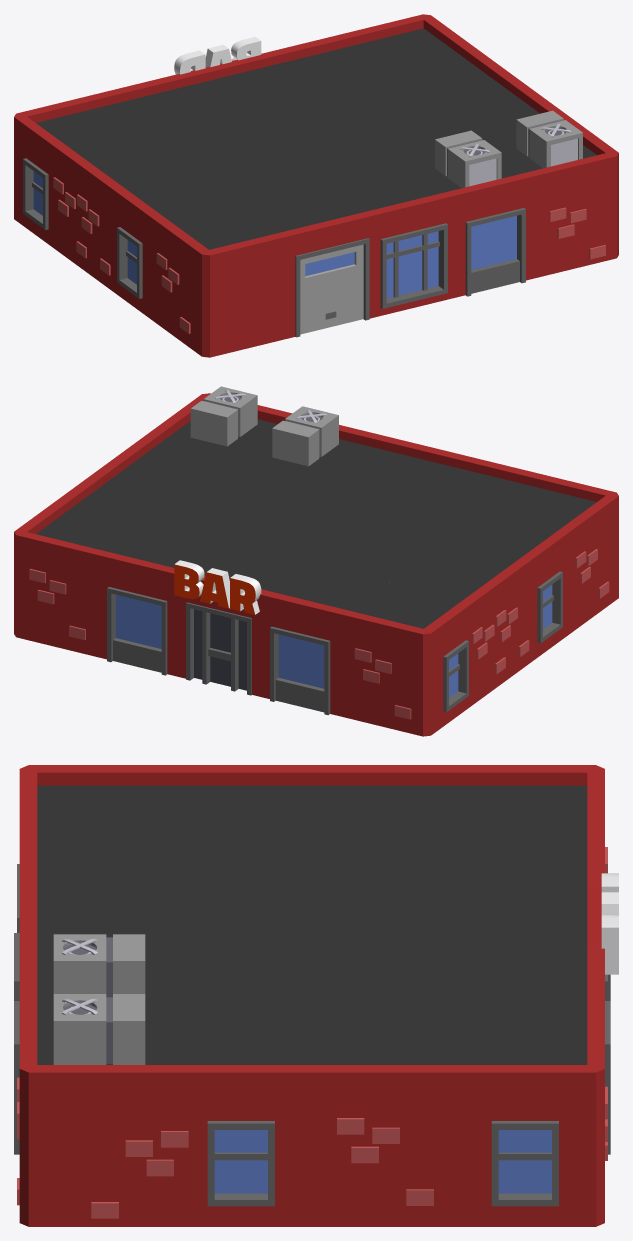
File: Building 07.fbx
The picture shows the model from 3 angles, top to bottom: view 1: azimuth 30°, elevation 25°; view 2: azimuth 150°, elevation 25°; view 3: azimuth 270°, elevation 25°; orthographic projection. The views are drawn at different scales.
Visible parts, largest first — view 1: wall_windowStore_292, wall_straight_290, wall_windowLarge_291, wall_garageDoorClosed_287, wall_straight_295, roof_corner_302, roof_corner_300, roof_side_307, roof_corner_303, roof_side_308, roof_side_305, roof_side_309 (+24 smaller); view 2: wall_straight_263, wall_windowStore_261, wall_windowStore_260, wall_skyscraperDoor%_262, wall_straight_264, roof_corner_303, roof_corner_302, roof_corner_300, roof_side_305, roof_side_307, roof_side_309, roof_side_306 (+25 smaller); view 3: wall_window_268, wall_straight_294, wall_window_293, wall_straight_265, roof_corner_300, roof_corner_302, roof_corner_303, roof_side_310, roof_side_312, roof_side_311, roof_side_313, roof_square_315 (+20 smaller).
Boxes of the visible parts, left/top/right/bottom form: wall_windowStore_292: left=454, top=193, right=535, bottom=297; wall_straight_290: left=210, top=253, right=291, bottom=357; wall_windowLarge_291: left=372, top=213, right=453, bottom=317; wall_garageDoorClosed_287: left=291, top=233, right=372, bottom=337; wall_straight_295: left=535, top=173, right=616, bottom=277; roof_corner_302: left=155, top=205, right=291, bottom=272; roof_corner_300: left=340, top=14, right=477, bottom=80; roof_side_307: left=98, top=74, right=233, bottom=139; roof_corner_303: left=14, top=93, right=138, bottom=167; roof_side_308: left=180, top=54, right=314, bottom=119; roof_side_305: left=318, top=166, right=455, bottom=232; roof_side_309: left=261, top=34, right=395, bottom=100; wall_straight_263: left=341, top=631, right=430, bottom=736; wall_windowStore_261: left=260, top=612, right=341, bottom=716; wall_windowStore_260: left=97, top=572, right=178, bottom=676; wall_skyscraperDoor%_262: left=179, top=596, right=260, bottom=696; wall_straight_264: left=14, top=549, right=97, bottom=656; roof_corner_303: left=339, top=584, right=477, bottom=651; roof_corner_302: left=483, top=472, right=618, bottom=546; roof_corner_300: left=14, top=496, right=138, bottom=571; roof_side_305: left=318, top=433, right=455, bottom=496; roof_side_307: left=260, top=564, right=395, bottom=631; roof_side_309: left=97, top=525, right=233, bottom=590; roof_side_306: left=401, top=453, right=534, bottom=519; wall_window_268: left=454, top=1098, right=596, bottom=1226; wall_straight_294: left=19, top=1095, right=170, bottom=1226; wall_window_293: left=170, top=1098, right=312, bottom=1226; wall_straight_265: left=312, top=1098, right=454, bottom=1226; roof_corner_300: left=445, top=1005, right=604, bottom=1098; roof_corner_302: left=19, top=765, right=179, bottom=845; roof_corner_303: left=445, top=765, right=604, bottom=845; roof_side_310: left=303, top=765, right=462, bottom=845; roof_side_312: left=161, top=1018, right=321, bottom=1098; roof_side_311: left=161, top=765, right=321, bottom=845; roof_side_313: left=303, top=1018, right=462, bottom=1098; roof_square_315: left=161, top=898, right=321, bottom=965.
Bounding box in the file's own units: 52.05 × 14.61 × 42.63.
